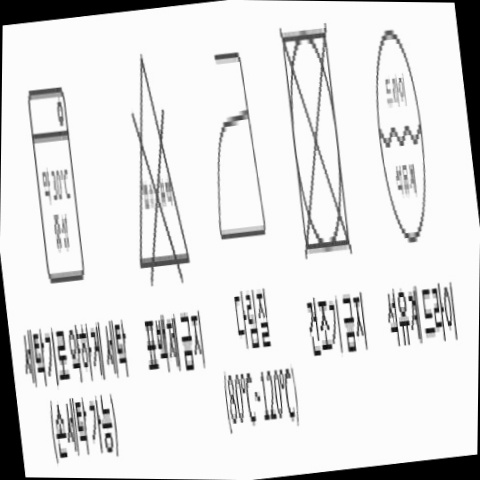30C: (15, 80, 98, 296)
DN_tumble_dry: (265, 12, 373, 270)
dry_clean_petrol_only: (354, 9, 453, 255)
iron: (185, 42, 280, 256)
non_chlorine_bleach: (110, 49, 205, 291)
